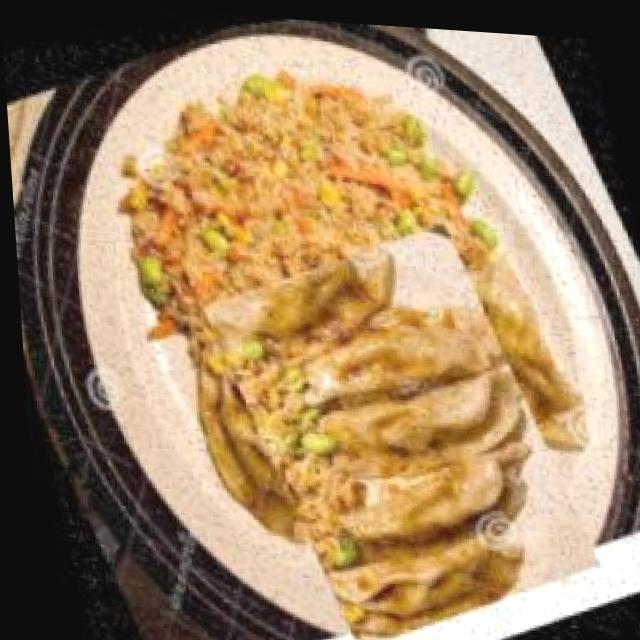fried_dumplings: (168, 203, 624, 640)
